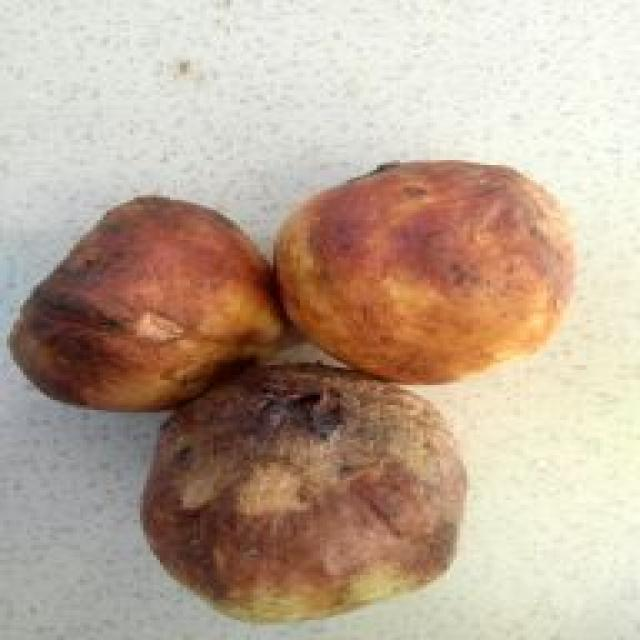Bad_Guava: (143, 364, 465, 621), (10, 196, 285, 409)
